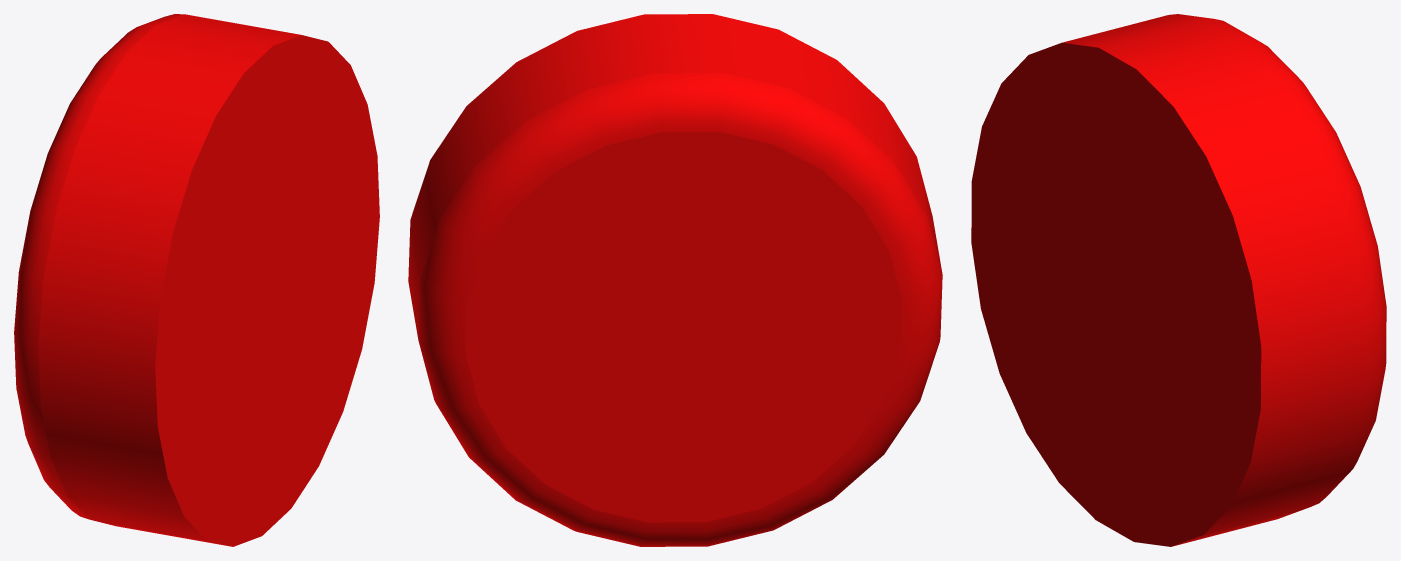
The model's file is original-57.obj.
The picture shows the model from 3 angles, left to right: view 1: azimuth 30°, elevation 25°; view 2: azimuth 150°, elevation 25°; view 3: azimuth 270°, elevation 25°; orthographic projection. The views are drawn at different scales.
Visible parts, largest first — view 1: Component_5_50/Component_5/mesh11/mesh11-geometry#mesh11-geometr; view 2: Component_5_50/Component_5/mesh11/mesh11-geometry#mesh11-geometr; view 3: Component_5_50/Component_5/mesh11/mesh11-geometry#mesh11-geometr.
Boxes of the visible parts, x1,y1,x2,y2 form: Component_5_50/Component_5/mesh11/mesh11-geometry#mesh11-geometr: (14,14,379,546); Component_5_50/Component_5/mesh11/mesh11-geometry#mesh11-geometr: (408,14,942,546); Component_5_50/Component_5/mesh11/mesh11-geometry#mesh11-geometr: (971,14,1386,546).
Size of the model in its own units: 0.0555 by 0.0568 by 0.0456.
